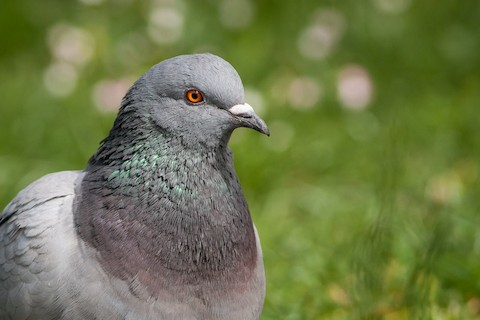pigeon: (11, 47, 289, 312)
